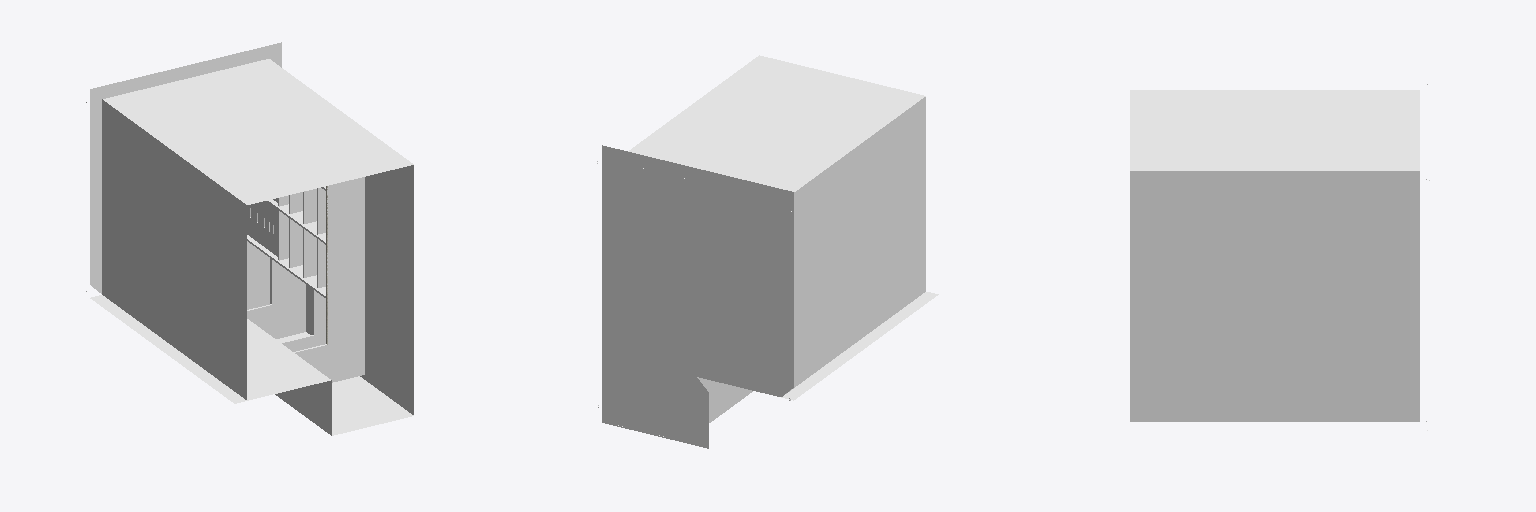
The picture shows the model from 3 angles: view 1: azimuth 30°, elevation 25°; view 2: azimuth 150°, elevation 25°; view 3: azimuth 270°, elevation 25°; orthographic projection.
Visible parts, largest first — view 1: Object_376, Object_377, Object_378, Object_381, Object_379, Object_383, Object_389, Object_326, Object_205, Object_86, Object_382, Object_355 (+8 smaller); view 2: Object_375, Object_376, Object_377, Object_385, Object_389, Object_383, Object_382, Object_387, Object_380, Object_391; view 3: Object_378, Object_377.
Boxes of the visible parts, box(x1,y1,x2,y2) form: Object_376: box(102, 99, 246, 399); Object_377: box(103, 59, 413, 204); Object_378: box(360, 165, 413, 414); Object_381: box(247, 319, 330, 400); Object_379: box(332, 376, 413, 435); Object_383: box(90, 42, 281, 98); Object_389: box(90, 90, 101, 293); Object_326: box(295, 336, 364, 382); Object_205: box(328, 237, 364, 296); Object_86: box(328, 183, 364, 243); Object_382: box(90, 295, 246, 403); Object_355: box(247, 297, 305, 338); Object_375: box(614, 161, 780, 432); Object_376: box(786, 97, 925, 393); Object_377: box(628, 55, 925, 191); Object_385: box(602, 146, 613, 421); Object_389: box(781, 192, 793, 396); Object_383: box(602, 145, 792, 201); Object_382: box(781, 292, 938, 400); Object_387: box(602, 413, 708, 448); Object_380: box(697, 377, 752, 422); Object_391: box(697, 378, 708, 447); Object_378: box(1130, 171, 1419, 421); Object_377: box(1130, 90, 1419, 170).
Bounding box in the file's own units: 3110 × 4225 × 4125.
Materials: 12 (1 with a texture image).